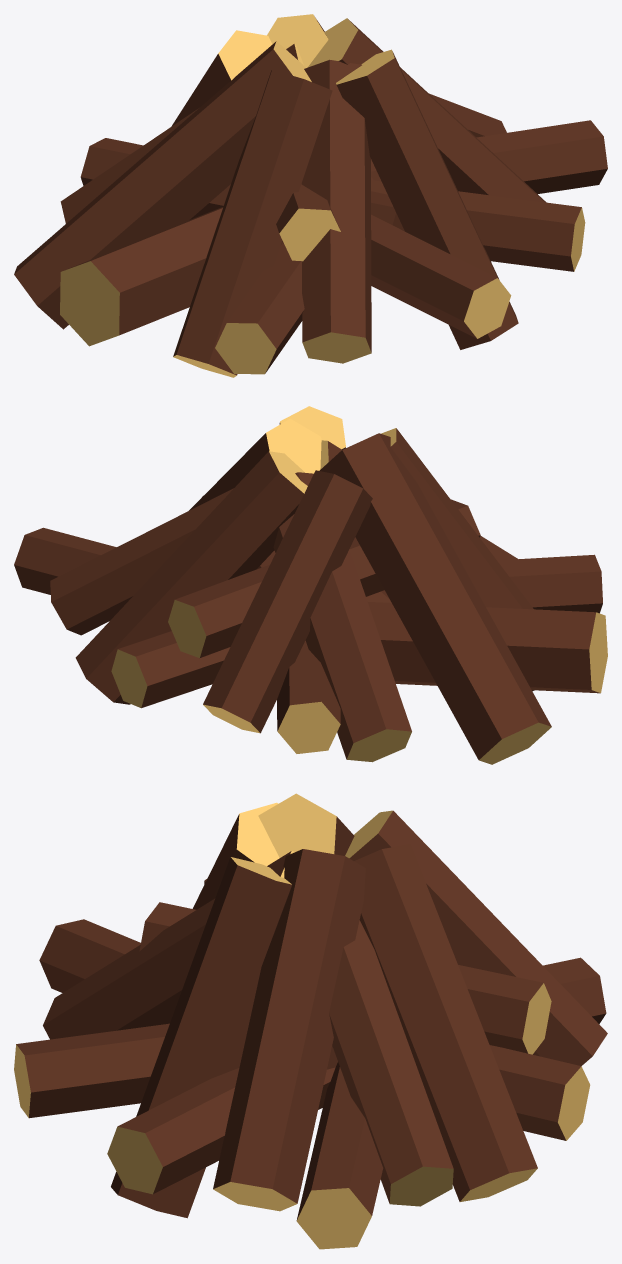
The model's file is Bonfire.fbx.
The picture shows the model from 3 angles, top to bottom: view 1: azimuth 30°, elevation 25°; view 2: azimuth 150°, elevation 25°; view 3: azimuth 270°, elevation 25°; orthographic projection. The views are drawn at different scales.
Parts seen in each view (by area): view 1: Bonfire; view 2: Bonfire; view 3: Bonfire.
Boxes of the visible parts, x1,y1,x2,y2 form: Bonfire: (14,14,607,377); Bonfire: (14,406,607,764); Bonfire: (14,793,607,1249).
Bounding box in the file's own units: 1.34 × 0.6639 × 1.05.
